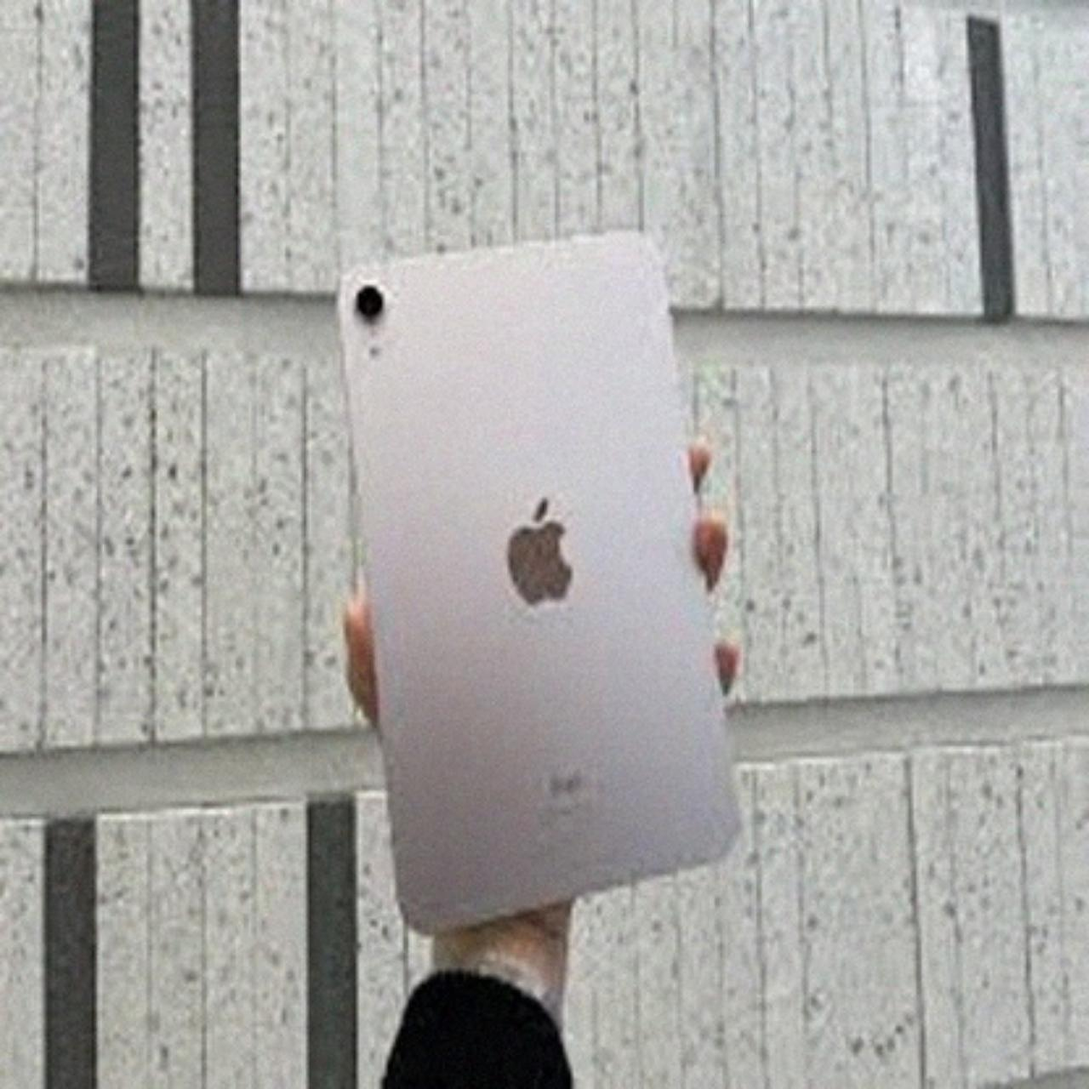Tablet_PC: (311, 225, 759, 947)
